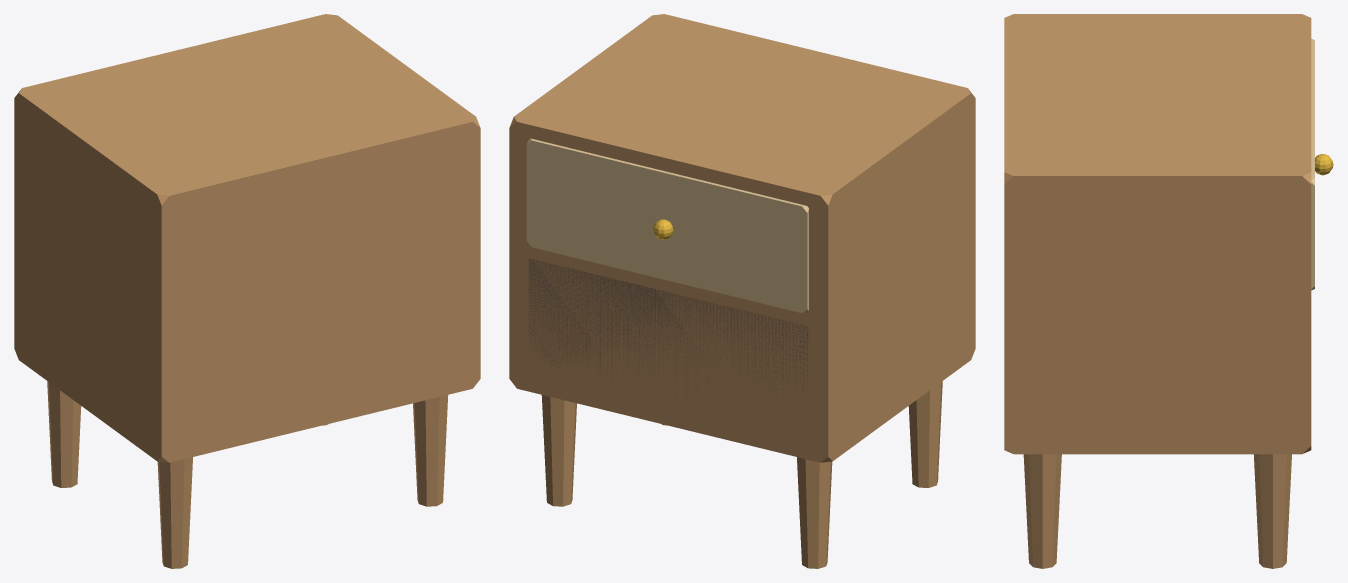
Rendered from Furniture_BedsideTable.glb.
3 views of the same model, side by side, from view 1: azimuth 30°, elevation 25°; view 2: azimuth 150°, elevation 25°; view 3: azimuth 270°, elevation 25° (orthographic). The views are drawn at different scales.
Parts seen in each view (by area): view 1: Furniture_BedsideTable; view 2: Furniture_BedsideTable; view 3: Furniture_BedsideTable.
Boxes of the visible parts, x1,y1,x2,y2 form: Furniture_BedsideTable: (14, 14, 480, 568); Furniture_BedsideTable: (509, 14, 975, 568); Furniture_BedsideTable: (1004, 14, 1333, 568).
Size of the model in its own units: 0.5 by 0.58 by 0.429.
